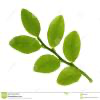Blueberry leaf: (47, 9, 66, 52), (63, 30, 82, 66), (7, 35, 43, 54), (20, 6, 41, 37), (30, 55, 62, 75), (55, 66, 84, 86)
